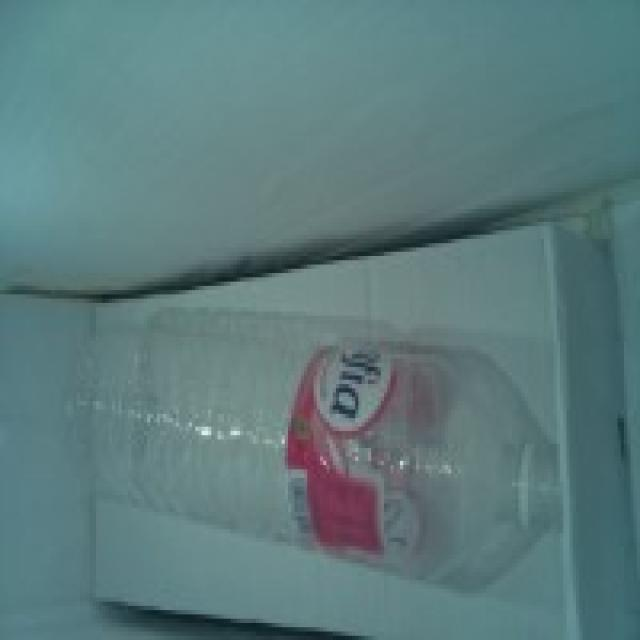Anorganik: (58, 299, 566, 580)
